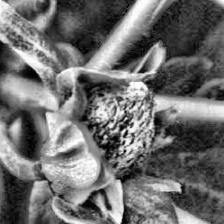Gray Mold: (37, 70, 154, 206)
